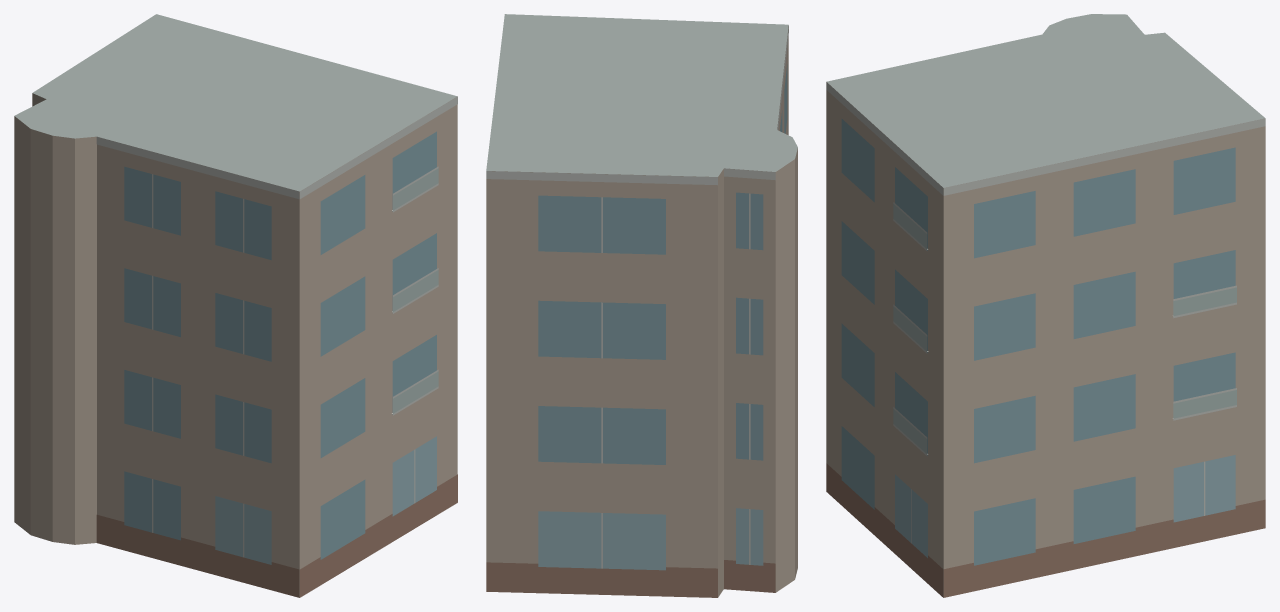
Rendered from survey-upis-32728367.glb.
3 renders of one model, left to right at view 1: azimuth 30°, elevation 25°; view 2: azimuth 150°, elevation 25°; view 3: azimuth 270°, elevation 25°, orthographic. The views are drawn at different scales.
Parts seen in each view (by area): view 1: survey-upis-32728367.tmp; view 2: survey-upis-32728367.tmp; view 3: survey-upis-32728367.tmp.
Part boxes in pixels (left/top/right/bottom): survey-upis-32728367.tmp: left=14, top=14, right=457, bottom=597; survey-upis-32728367.tmp: left=486, top=14, right=797, bottom=597; survey-upis-32728367.tmp: left=826, top=14, right=1265, bottom=597.
Bounding box in the file's own units: 11.48 × 12.6 × 12.25.
